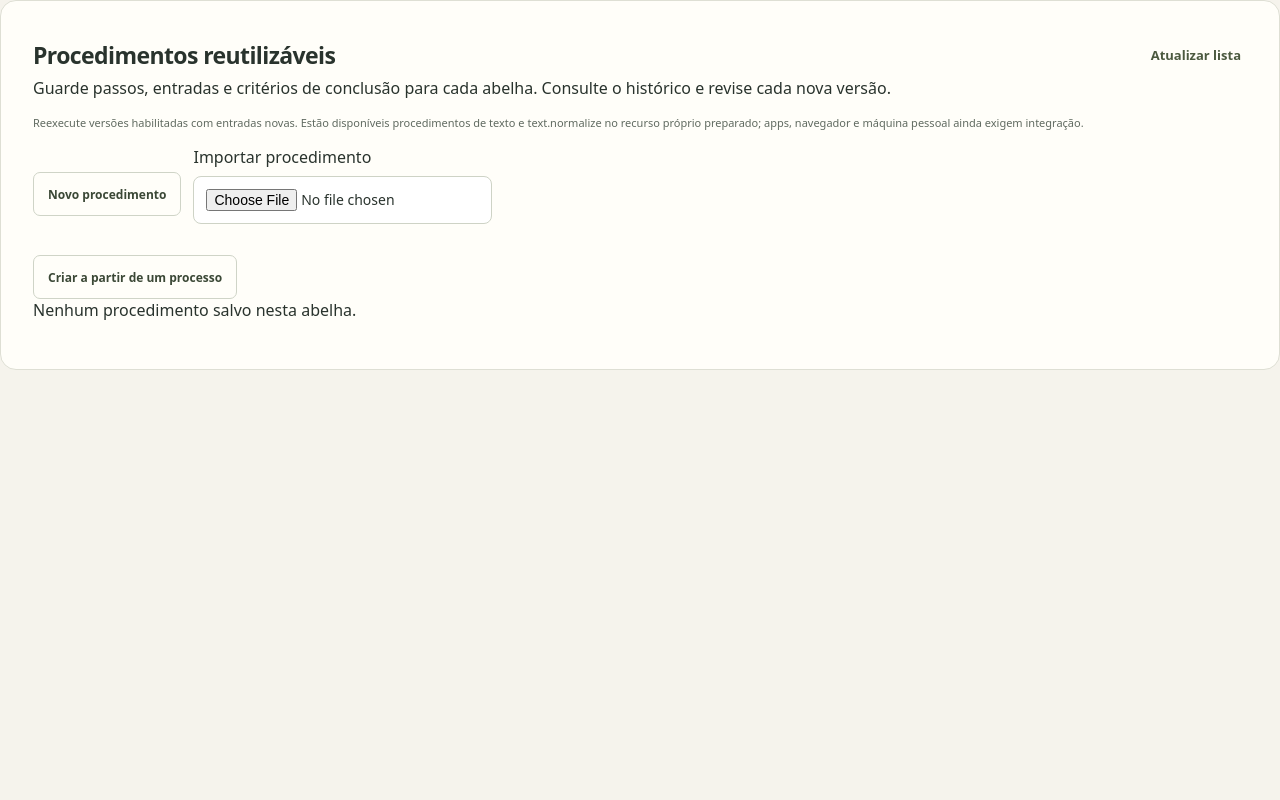
Scenario: process conversion with explicit review › excludes partial results and artifacts without turning reads into mutations
Click the button "Criar a partir de um processo".
click(135, 277)  # box [33,255,237,299]
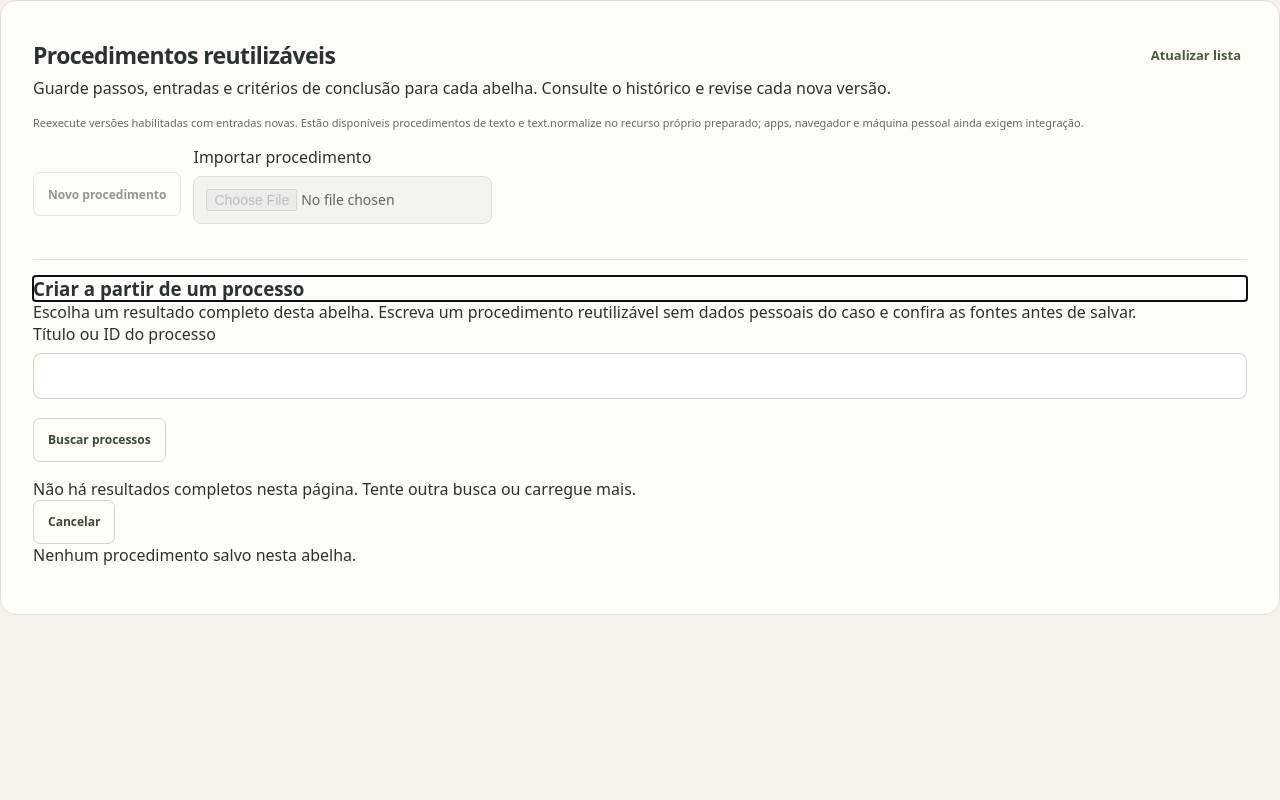
Expected: the text "Não há resultados completos nesta página" is shown, [33,478,636,500]
